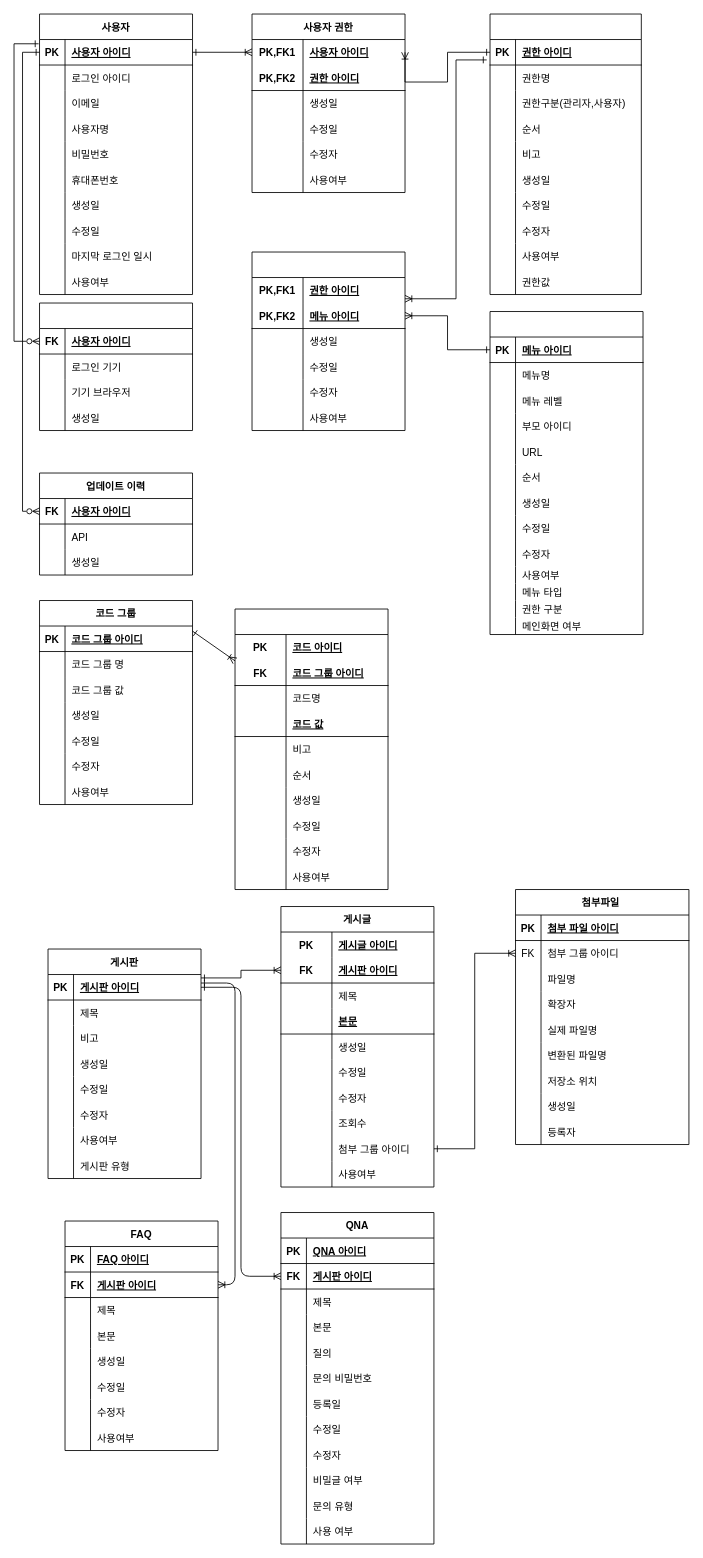
Image size: 703x1558. Some labels were removed from this diagram. Each missing label, with the box of its shape:
LOGIN_HISTORY_TB: (39, 302, 193, 431)
권한: (489, 13, 641, 295)
권한별 메뉴: (251, 251, 405, 431)
메뉴: (489, 311, 643, 635)
코드: (234, 608, 388, 890)
